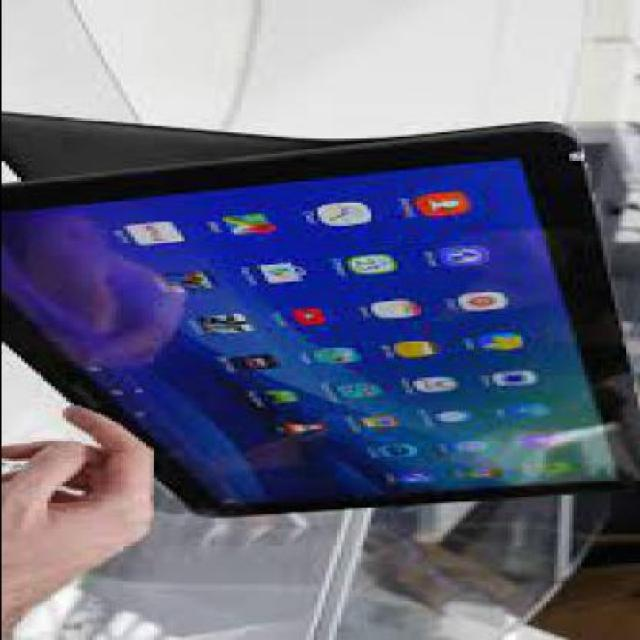tablet: (1, 80, 638, 554)
